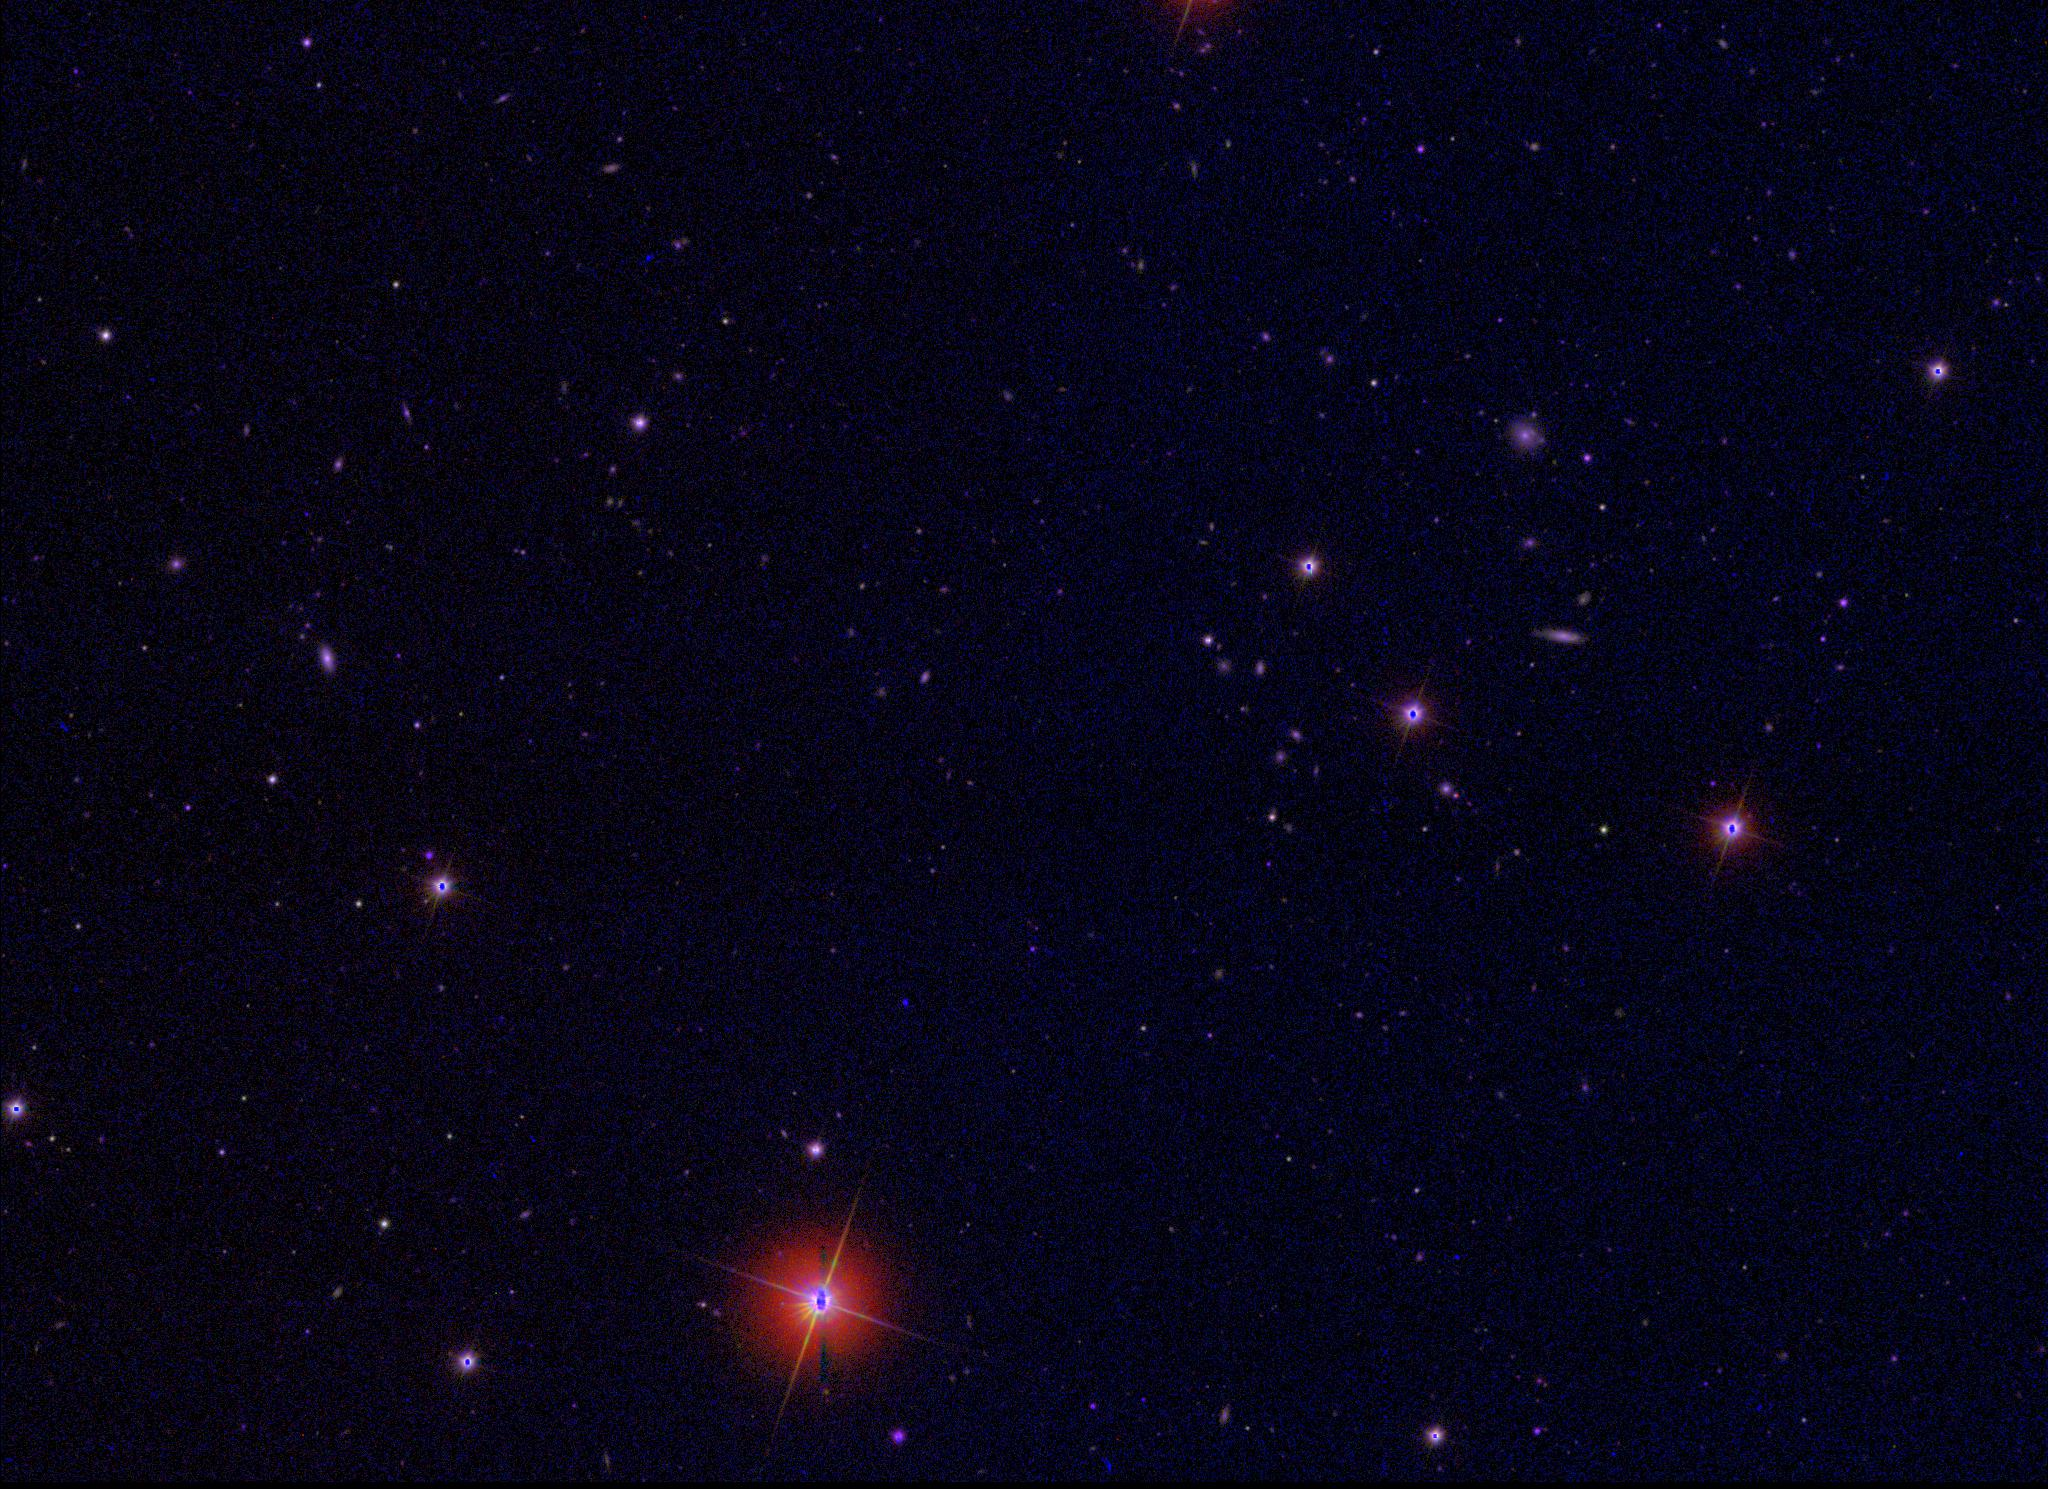L: (897, 996, 910, 1010)
